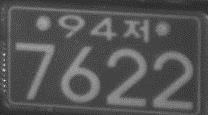2: (152, 49, 195, 111), (105, 47, 147, 108)
4: (89, 16, 118, 42)
6: (60, 44, 101, 103)
7: (15, 41, 55, 101)
9: (58, 13, 86, 38)
저: (122, 18, 149, 43)
